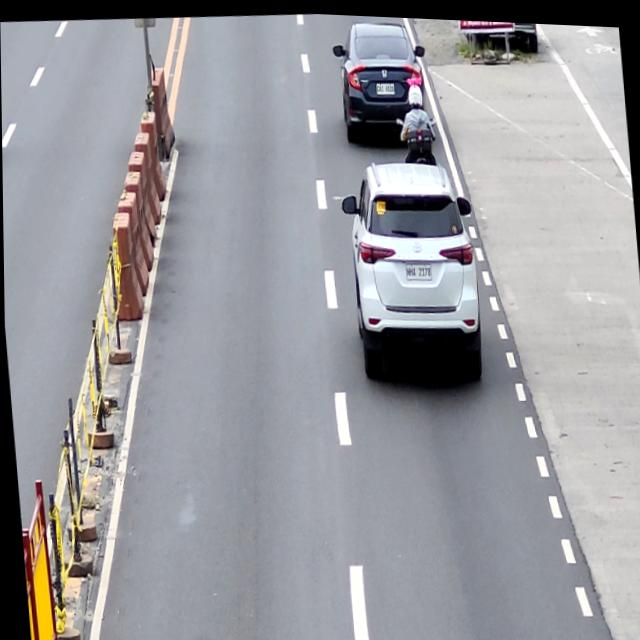Car: (335, 150, 489, 387), (328, 12, 432, 142)
License-Plate: (404, 257, 431, 278), (375, 78, 395, 91)
Motorcycle: (397, 108, 439, 165)
